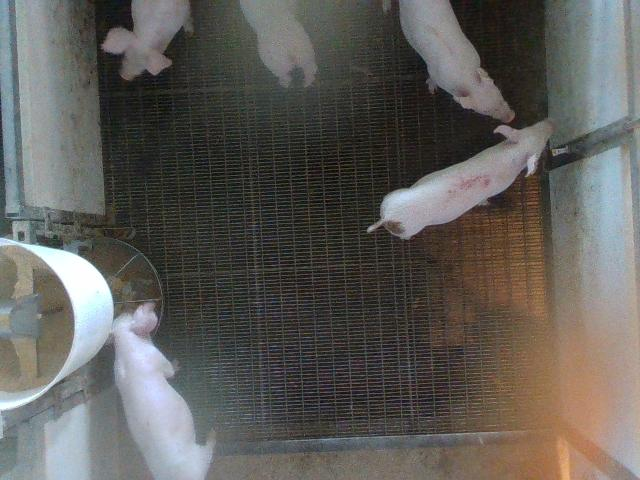pig-5: (369, 118, 554, 239)
